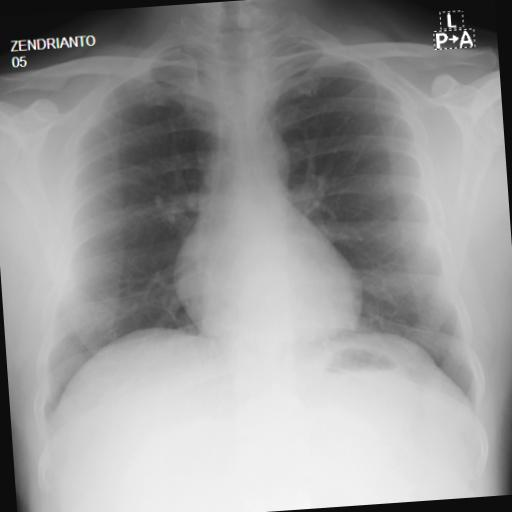normal: (4, 6, 498, 482)
